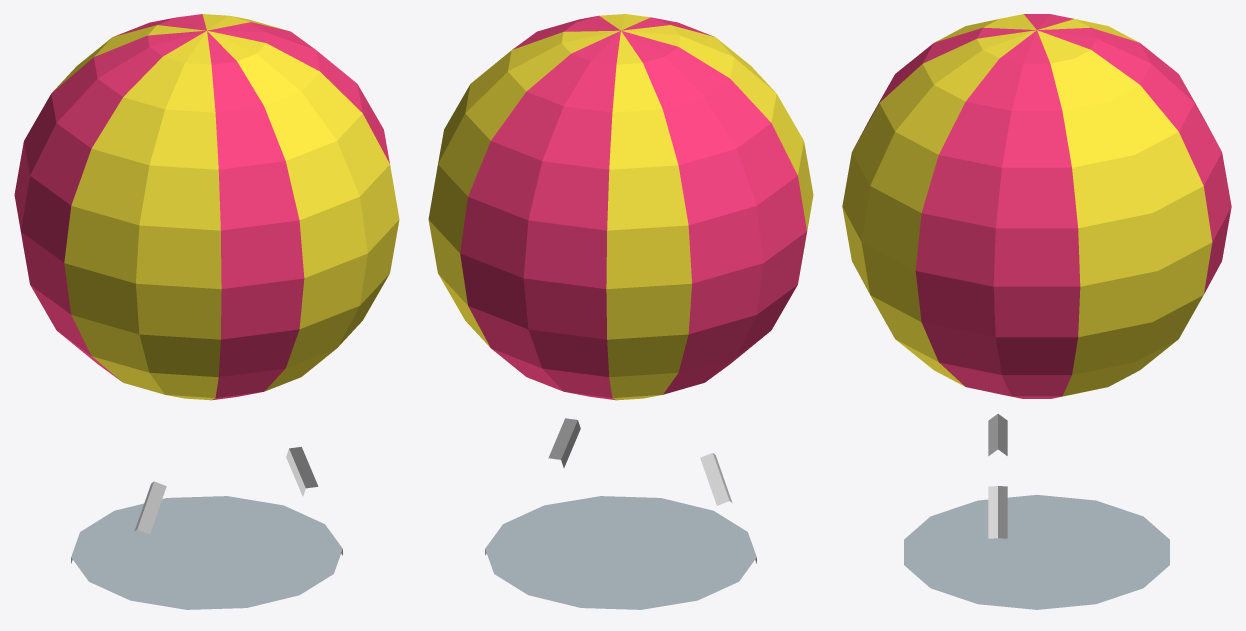
The model's file is studsboll.glb.
3 views of the same model, side by side, from view 1: azimuth 30°, elevation 25°; view 2: azimuth 150°, elevation 25°; view 3: azimuth 270°, elevation 25° (orthographic).
Parts seen in each view (by area): view 1: studsboll; view 2: studsboll; view 3: studsboll.
Boxes of the visible parts, box(x1,y1,x2,y2) form: studsboll: box(14, 14, 399, 609); studsboll: box(428, 14, 813, 609); studsboll: box(842, 14, 1231, 609).
Bounding box in the file's own units: 0.195 × 0.3 × 0.2.
